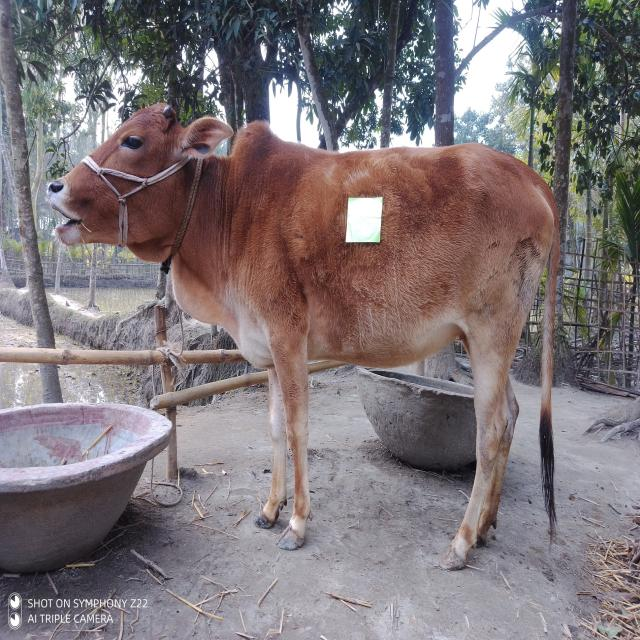badan_sapi: (274, 138, 521, 370)
sapi: (40, 94, 583, 570)
